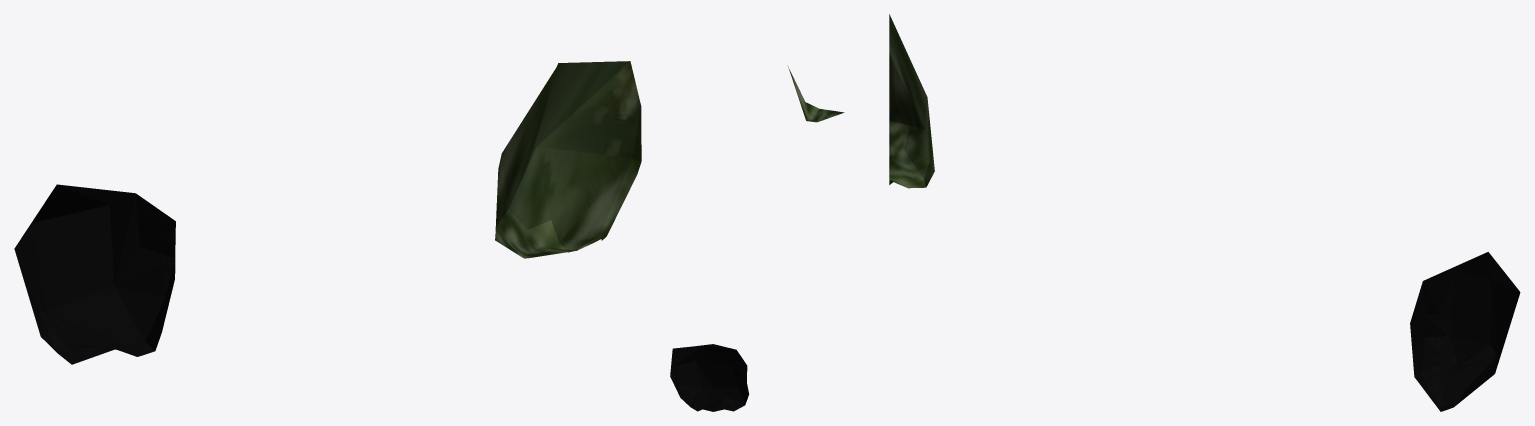
3 views of the same model, side by side, from view 1: azimuth 30°, elevation 25°; view 2: azimuth 150°, elevation 25°; view 3: azimuth 270°, elevation 25° (orthographic). The views are drawn at different scales.
Bounding box in the file's own units: 1.17 × 2.18 × 2.93.
Materials: 1 (1 with a texture image).
